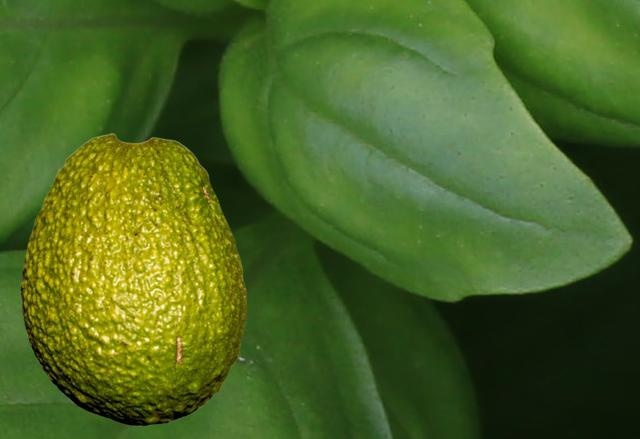avocado: (20, 133, 245, 425)
